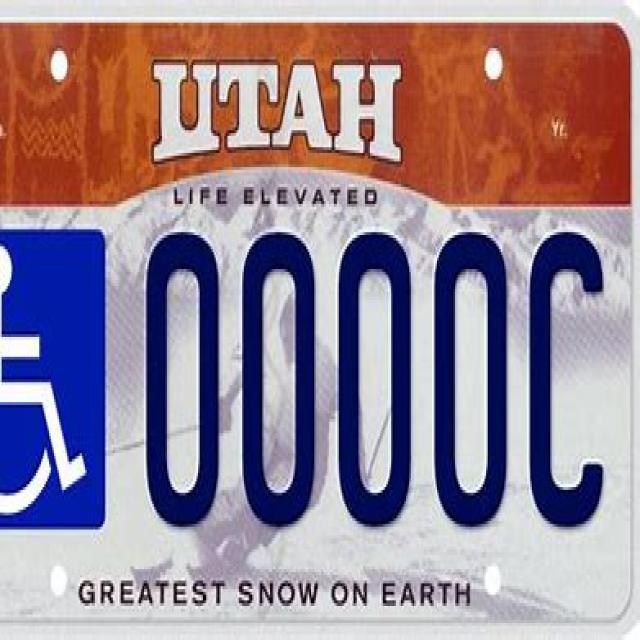car-handicap-placard: (0, 242, 90, 514)
